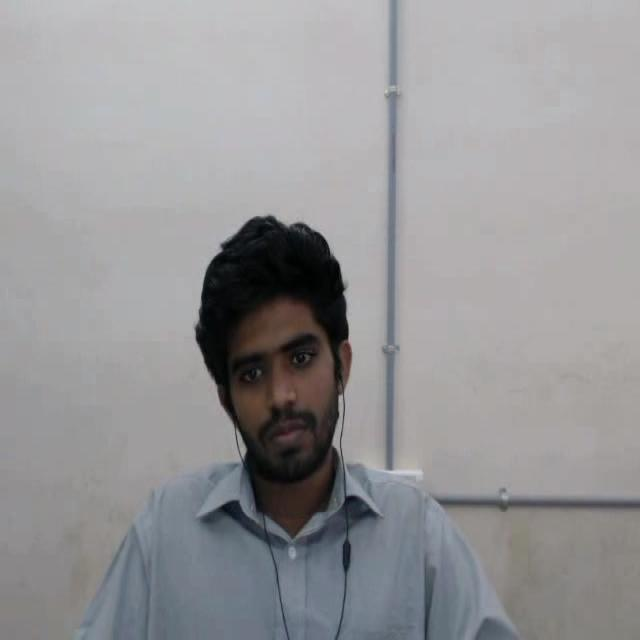Engaged: (160, 199, 366, 504)
